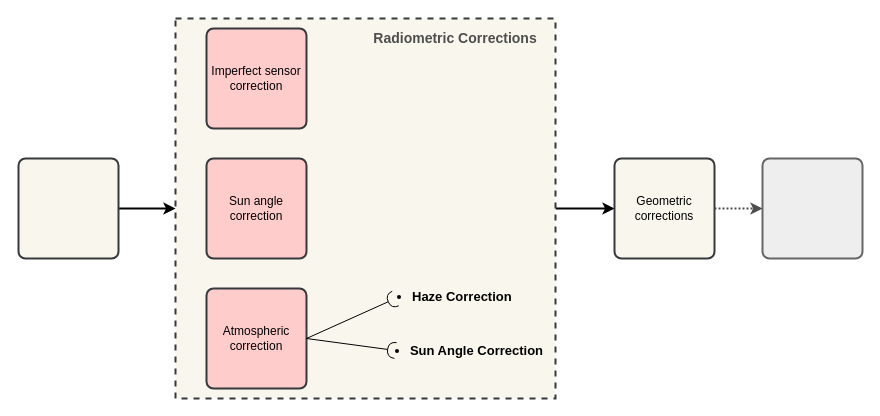
Image size: 880x416. Some labels were removed from this diagram. Here are the shapes that lost their labels. From the top down, the centre of each, then its label:
At point (68, 208): "Optical (VNIR) Data".
At point (812, 208): "Data Analysis".
